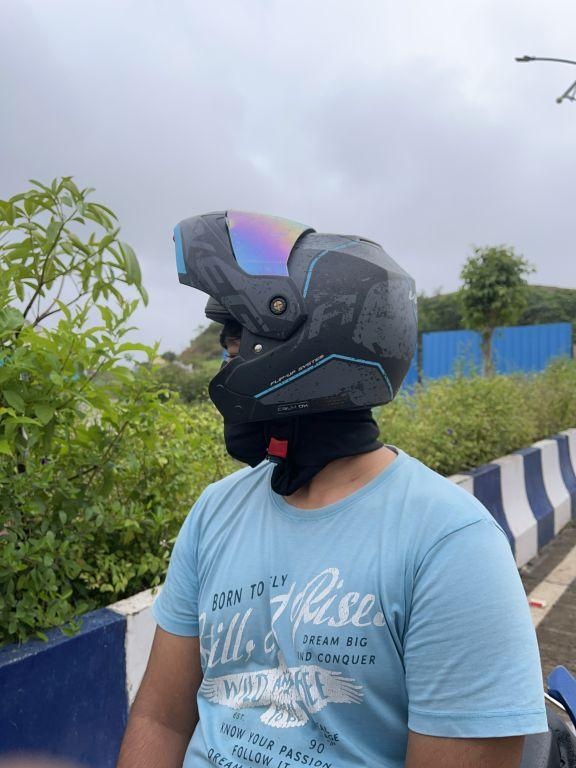helmet: (160, 199, 432, 487)
